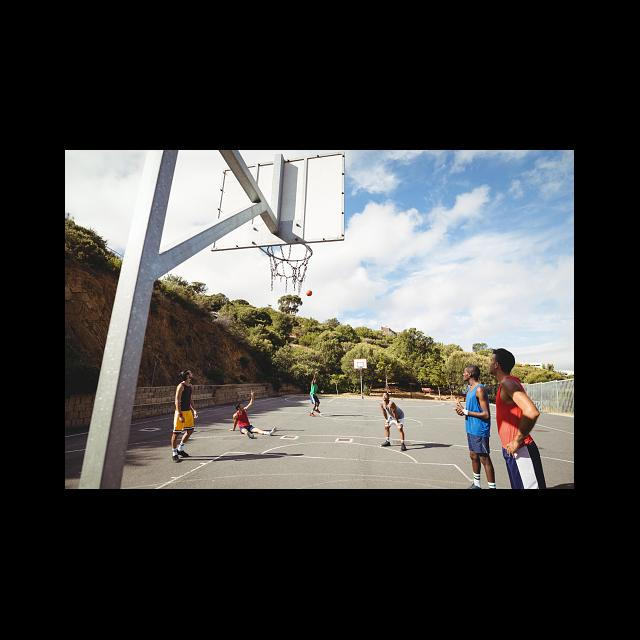basketball: (307, 290, 313, 297)
hoop: (266, 245, 310, 295)
